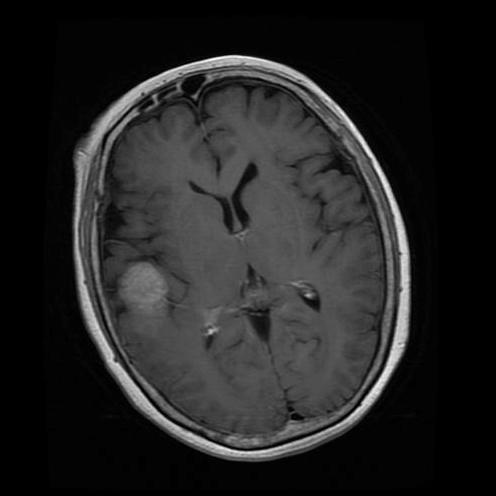Tumour-Meningioma: (120, 256, 181, 341)
